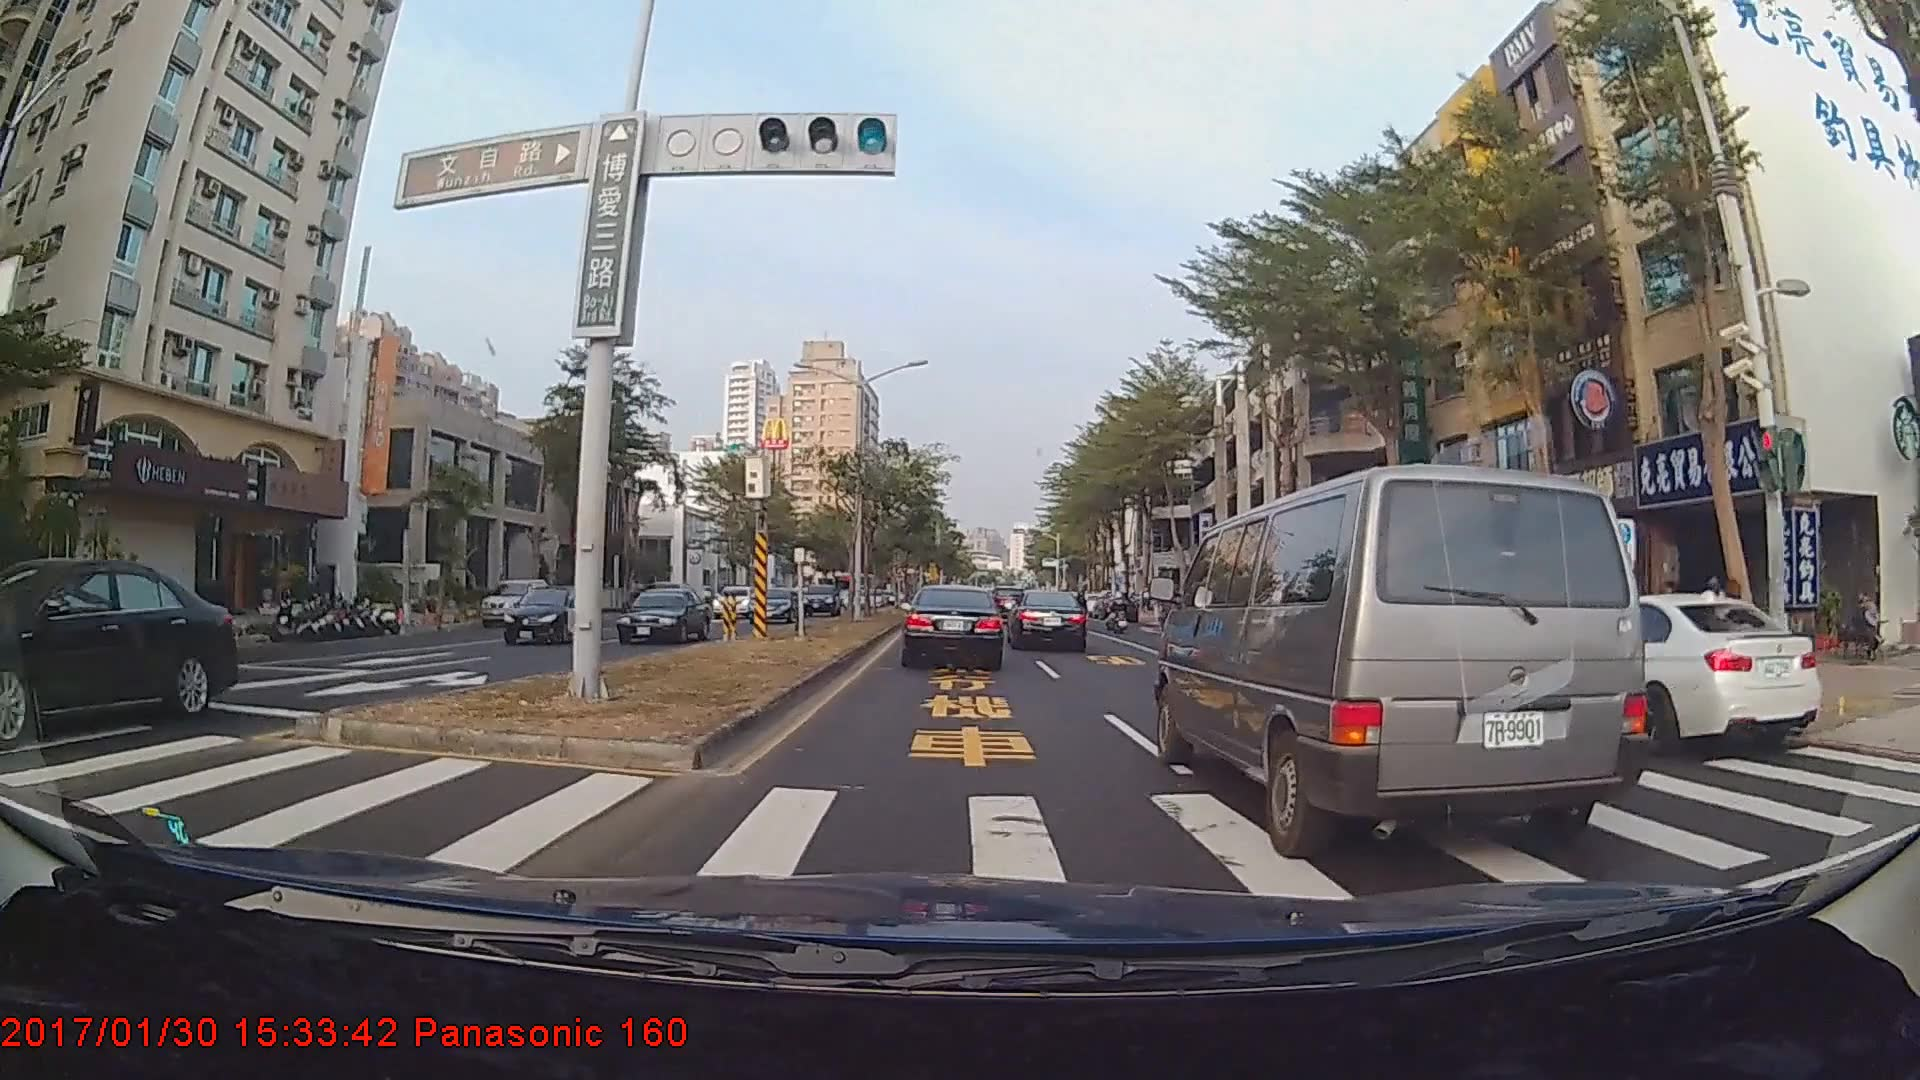vehicle: (1156, 458, 1662, 852), (1305, 483, 1636, 729), (0, 554, 236, 756), (901, 585, 1005, 669), (500, 585, 597, 646), (615, 585, 708, 642), (1005, 589, 1087, 651), (477, 578, 553, 626), (746, 585, 798, 622), (798, 580, 841, 613)
